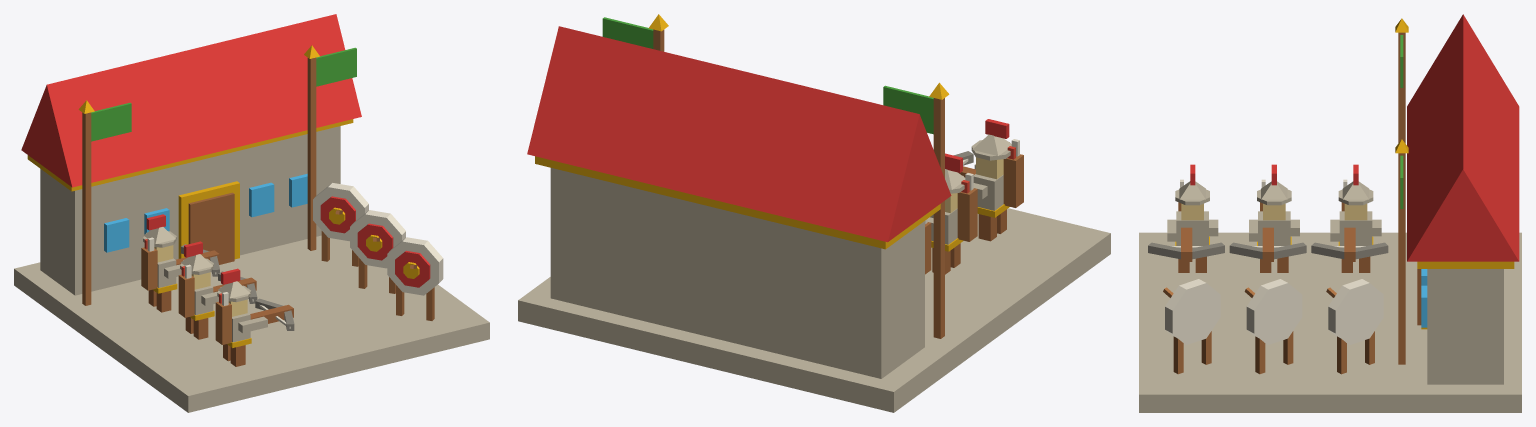
The model's file is archery_range_t3_v1.glb.
3 renders of one model, left to right at view 1: azimuth 30°, elevation 25°; view 2: azimuth 150°, elevation 25°; view 3: azimuth 270°, elevation 25°, orthographic. The views are drawn at different scales.
Visible parts, largest first — view 1: archery_range_t3_v1; view 2: archery_range_t3_v1; view 3: archery_range_t3_v1.
Part boxes in pixels (box(x1,y1,x2,y2)): archery_range_t3_v1: box(14, 14, 489, 412); archery_range_t3_v1: box(518, 14, 1110, 412); archery_range_t3_v1: box(1139, 14, 1521, 412).
Bounding box in the file's own units: 0.75 × 0.525 × 0.75.
1 material, 1 textured.
